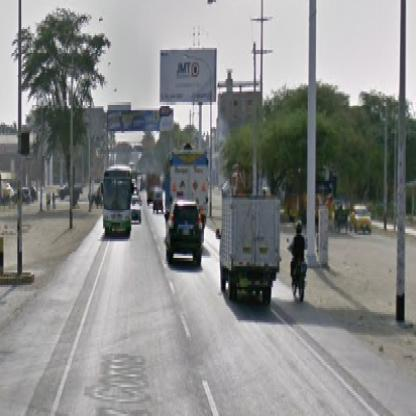Moto: (289, 221, 310, 303)
Pista: (26, 194, 381, 416)
Vehiculo: (217, 192, 279, 313), (166, 142, 208, 221), (165, 199, 205, 271), (104, 167, 134, 240), (352, 205, 373, 238), (132, 192, 143, 226), (153, 188, 165, 215)
